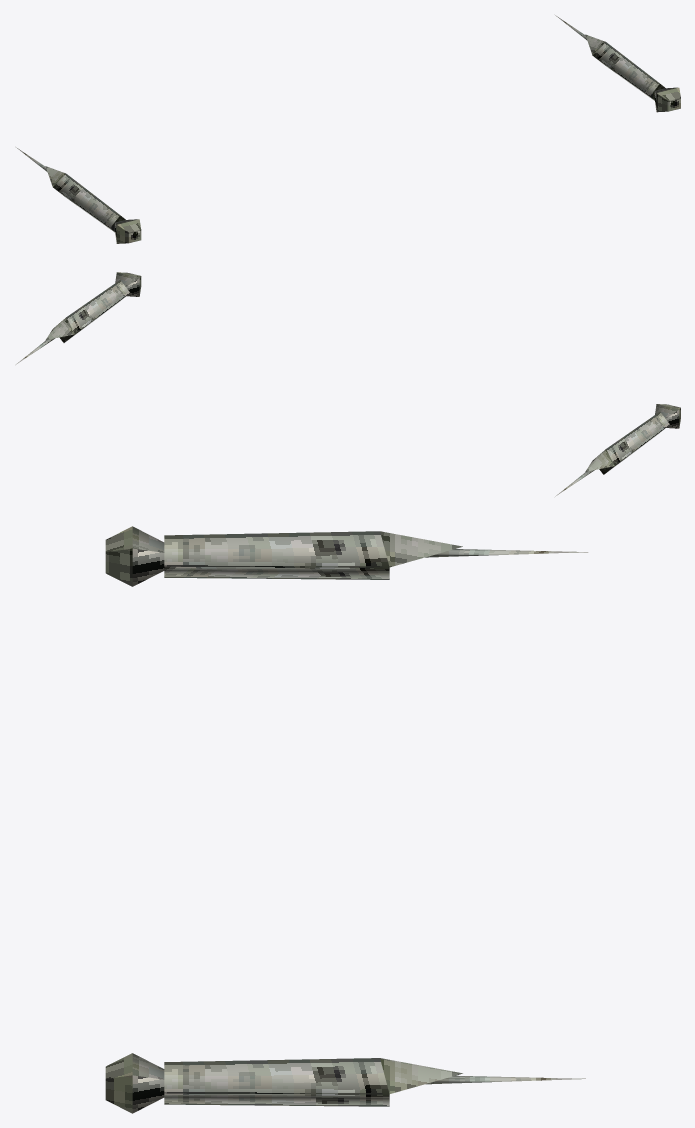
The model's file is z95_weapon_s03_l3.fbx.
3 renders of one model, top to bottom at view 1: azimuth 30°, elevation 25°; view 2: azimuth 150°, elevation 25°; view 3: azimuth 270°, elevation 25°, orthographic. The views are drawn at different scales.
Parts seen in each view (by area): view 1: mesh_node; view 2: mesh_node; view 3: mesh_node.
Part boxes in pixels (bbox=[...]): mesh_node: bbox=[16, 15, 680, 243]; mesh_node: bbox=[16, 272, 680, 496]; mesh_node: bbox=[105, 526, 587, 1113].
Size of the model in its own units: 15.32 by 0.6347 by 5.7.
1 material, 1 textured.
